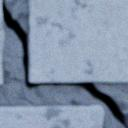brick: (28, 0, 127, 81), (0, 105, 102, 127), (0, 0, 4, 84), (126, 112, 127, 127)
crack: (2, 0, 126, 127)
